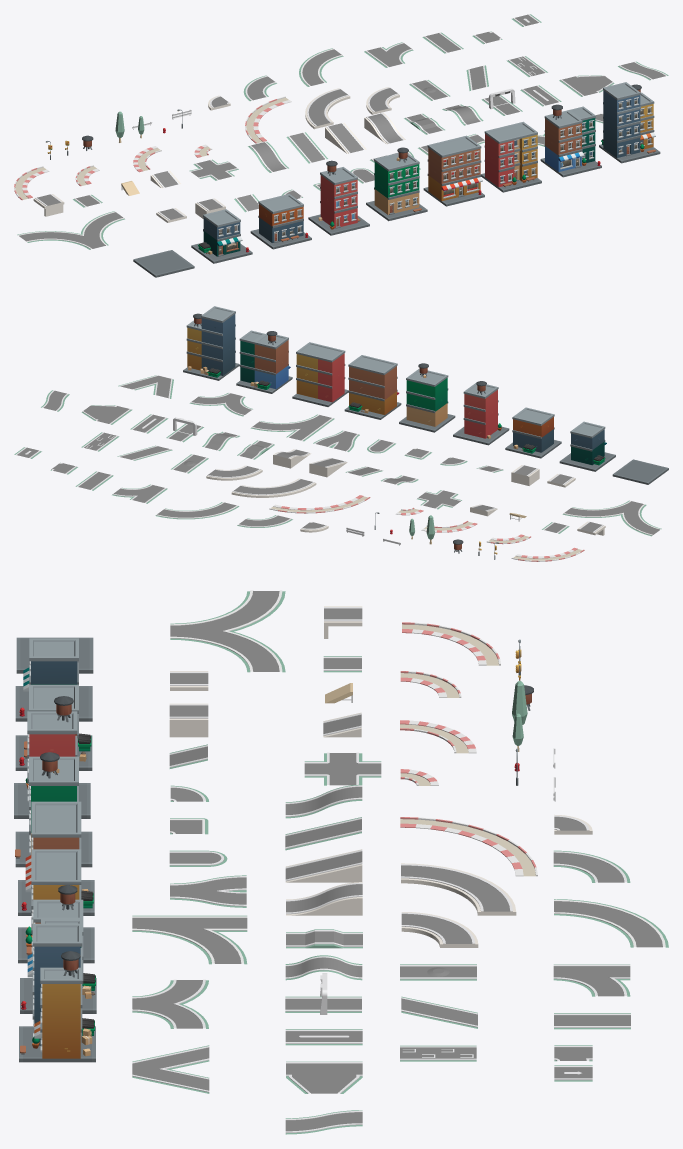
File: track.glb
3 renders of one model, top to bottom at view 1: azimuth 30°, elevation 25°; view 2: azimuth 150°, elevation 25°; view 3: azimuth 270°, elevation 25°, orthographic. The views are drawn at different scales.
Parts seen in each view (by area): view 1: building_H-col, building_E-col, building_F-col, building_G-col, building_D-col, building_C-col, building_B-col, building_A-col, roadSplitRoundLarge(Clone)-col, base-col, roadCornerBridgeLarger(Clone)-col, roadCornerLarger(Clone)-col (+21 smaller); view 2: building_H-col, building_F-col, building_G-col, building_E-col, building_D-col, building_C-col, building_B-col, building_A-col, roadSplitRoundLarge(Clone)-col, roadSplitLarger(Clone)-col, roadCornerBridgeLarger(Clone)-col, base-col (+22 smaller); view 3: building_H-col, roadSplitRoundLarge(Clone)-col, building_E-col, building_C-col, roadSplitLarger(Clone)-col, building_A-col, building_D-col, building_F-col, roadCornerBridgeLarger(Clone)-col, building_G-col, roadCornerLarger(Clone)-col, roadSplitRound(Clone)-col (+30 smaller).
Boxes of the visible parts, <box> form: building_H-col: <box>599,82,660,163</box>; building_E-col: <box>423,135,484,206</box>; building_F-col: <box>481,121,541,192</box>; building_G-col: <box>540,104,601,177</box>; building_D-col: <box>366,147,427,221</box>; building_C-col: <box>308,160,369,235</box>; building_B-col: <box>250,194,311,249</box>; building_A-col: <box>191,209,252,263</box>; roadSplitRoundLarge(Clone)-col: <box>17,211,124,249</box>; base-col: <box>133,250,194,277</box>; roadCornerBridgeLarger(Clone)-col: <box>305,88,350,129</box>; roadCornerLarger(Clone)-col: <box>299,48,343,86</box>; building_H-col: <box>183,306,239,380</box>; building_F-col: <box>292,342,348,406</box>; building_G-col: <box>236,330,292,393</box>; building_E-col: <box>344,355,401,419</box>; building_D-col: <box>399,363,455,432</box>; building_C-col: <box>453,381,509,445</box>; building_B-col: <box>505,407,561,458</box>; building_A-col: <box>559,421,615,471</box>; roadSplitRoundLarge(Clone)-col: <box>562,500,661,536</box>; roadSplitLarger(Clone)-col: <box>250,414,334,441</box>; roadCornerBridgeLarger(Clone)-col: <box>231,478,316,497</box>; base-col: <box>612,459,668,484</box>; building_H-col: <box>19,923,95,1062</box>; roadSplitRoundLarge(Clone)-col: <box>170,590,285,672</box>; building_E-col: <box>18,801,94,915</box>; building_C-col: <box>14,696,90,818</box>; roadSplitLarger(Clone)-col: <box>132,915,247,964</box>; building_A-col: <box>15,638,92,721</box>; building_D-col: <box>15,752,92,867</box>; building_F-col: <box>18,849,94,963</box>; roadCornerBridgeLarger(Clone)-col: <box>401,863,516,915</box>; building_G-col: <box>20,885,96,1013</box>; roadCornerLarger(Clone)-col: <box>554,899,668,947</box>; roadSplitRound(Clone)-col: <box>132,979,208,1028</box>.
Bounding box in the file's own units: 33.49 × 3.05 × 17.06.
Materials: 160 (14 with a texture image).
